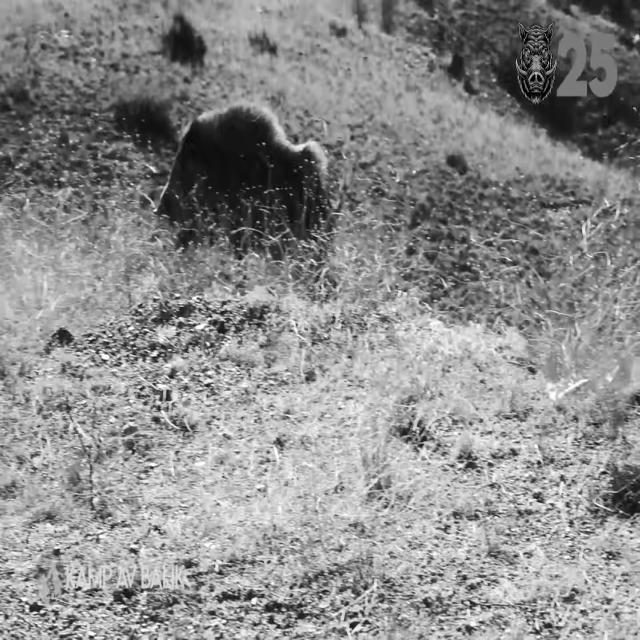boar: (158, 104, 327, 235), (517, 20, 558, 104)
